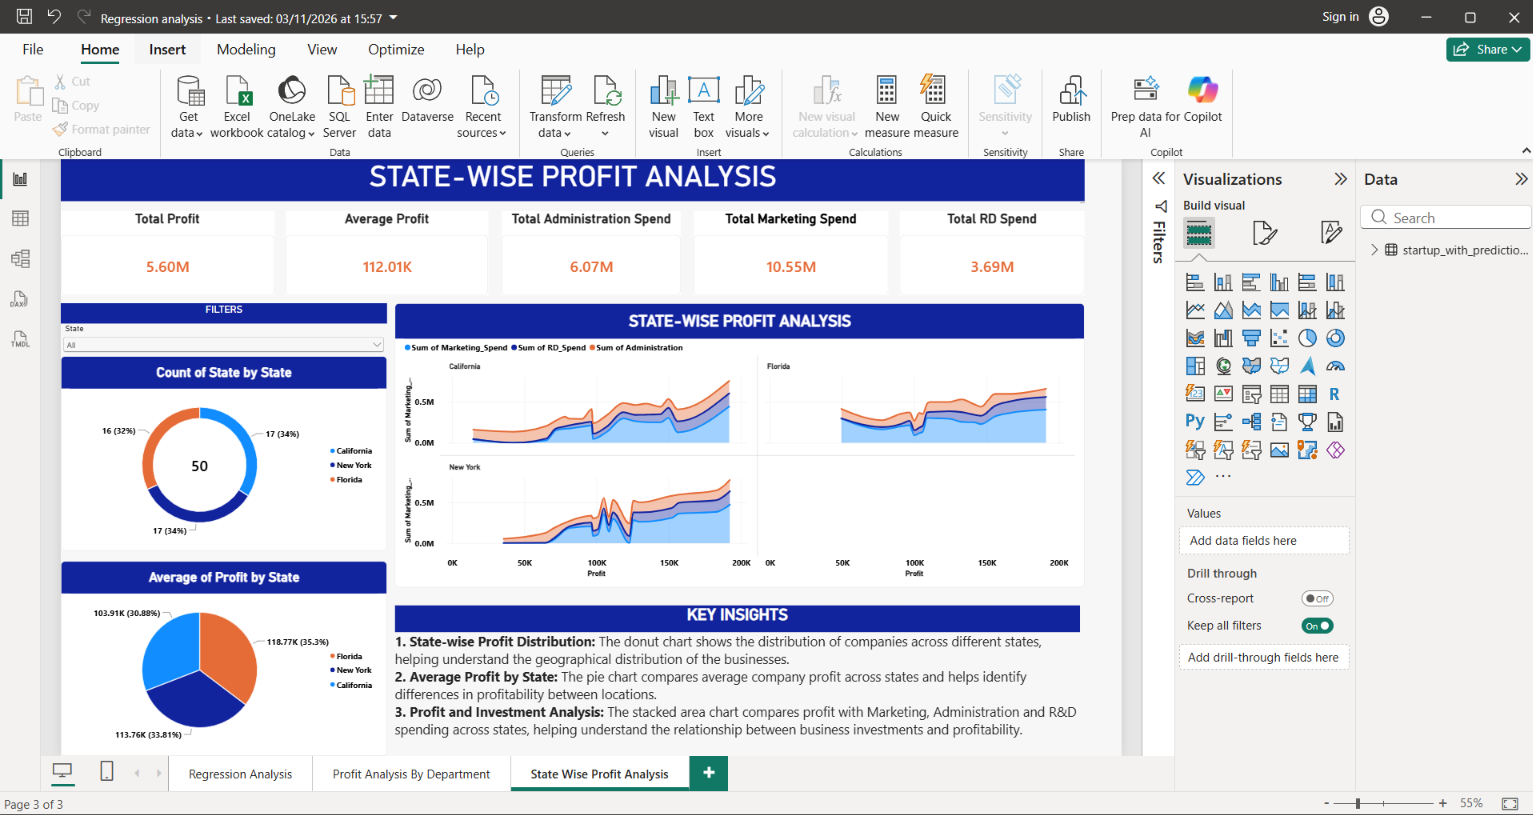

The page's visual inventory and layout, read from the dashboard file:
{"tool":"powerbi","page":{"name":"State Wise Profit Analysis","canvas":[1920,1080],"ordinal":2},"visuals":[{"type":"textbox","title":"STATE-WISE PROFIT ANALYSIS","box":[0,0,1853,79.7],"z":0},{"type":"cardVisual","title":"Total Profit","fields":{"Data":["Sum(startup_with_predictions.Profit)"]},"box":[0,94,386,152],"z":1000},{"type":"cardVisual","title":"Average Profit","fields":{"Data":["Avg(startup_with_predictions.Profit)"]},"box":[408,94,366,152],"z":2000},{"type":"cardVisual","title":"Total Administration Spend","fields":{"Data":["Sum(startup_with_predictions.Administration)"]},"box":[798,94,324,152],"z":3000},{"type":"cardVisual","title":"Total Marketing Spend","fields":{"Data":["Sum(startup_with_predictions.Marketing_Spend)"]},"box":[1146,94,352,152],"z":4000},{"type":"cardVisual","title":"Total RD Spend","fields":{"Data":["Sum(startup_with_predictions.RD_Spend)"]},"box":[1518,94,334,152],"z":5000},{"type":"donutChart","fields":{"Category":["startup_with_predictions.State"],"Y":["CountNonNull(startup_with_predictions.State)"]},"box":[0,356,590,352],"z":6000},{"type":"pieChart","fields":{"Category":["startup_with_predictions.State"],"Y":["Avg(startup_with_predictions.Profit)"]},"box":[0,728,590,352],"z":7000},{"type":"stackedAreaChart","title":"STATE-WISE PROFIT ANALYSIS","fields":{"Category":["startup_with_predictions.Profit"],"Y":["Sum(startup_with_predictions.Marketing_Spend)","Sum(startup_with_predictions.RD_Spend)","Sum(startup_with_predictions.Administration)"],"Rows":["startup_with_predictions.State"]},"box":[604,260,1248,514],"z":8000},{"type":"slicer","title":"FILTERS","fields":{"Values":["startup_with_predictions.State"]},"box":[0,260,590,96],"z":9000},{"type":"textbox","box":[1692,294,152,498],"z":10000},{"type":"textbox","title":"KEY INSIGHTS","box":[604,808,1240,244],"z":11000}]}

Visuals, with their boxes on the page's 1920x1080 design canvas (x1, y1, x2, y2). These are canvas units, not pixel positions in the 1533x815 screenshot, which may show the page scaled, cropped or inside an application window:
"STATE-WISE PROFIT ANALYSIS" textbox: left=0, top=0, right=1853, bottom=80
"Total Profit" cardVisual: left=0, top=94, right=386, bottom=246
"Average Profit" cardVisual: left=408, top=94, right=774, bottom=246
"Total Administration Spend" cardVisual: left=798, top=94, right=1122, bottom=246
"Total Marketing Spend" cardVisual: left=1146, top=94, right=1498, bottom=246
"Total RD Spend" cardVisual: left=1518, top=94, right=1852, bottom=246
donutChart - startup_with_predictions.State x CountNonNull(startup_with_predictions.State): left=0, top=356, right=590, bottom=708
pieChart - startup_with_predictions.State x Avg(startup_with_predictions.Profit): left=0, top=728, right=590, bottom=1080
"STATE-WISE PROFIT ANALYSIS" stackedAreaChart: left=604, top=260, right=1852, bottom=774
"FILTERS" slicer: left=0, top=260, right=590, bottom=356
textbox: left=1692, top=294, right=1844, bottom=792
"KEY INSIGHTS" textbox: left=604, top=808, right=1844, bottom=1052
